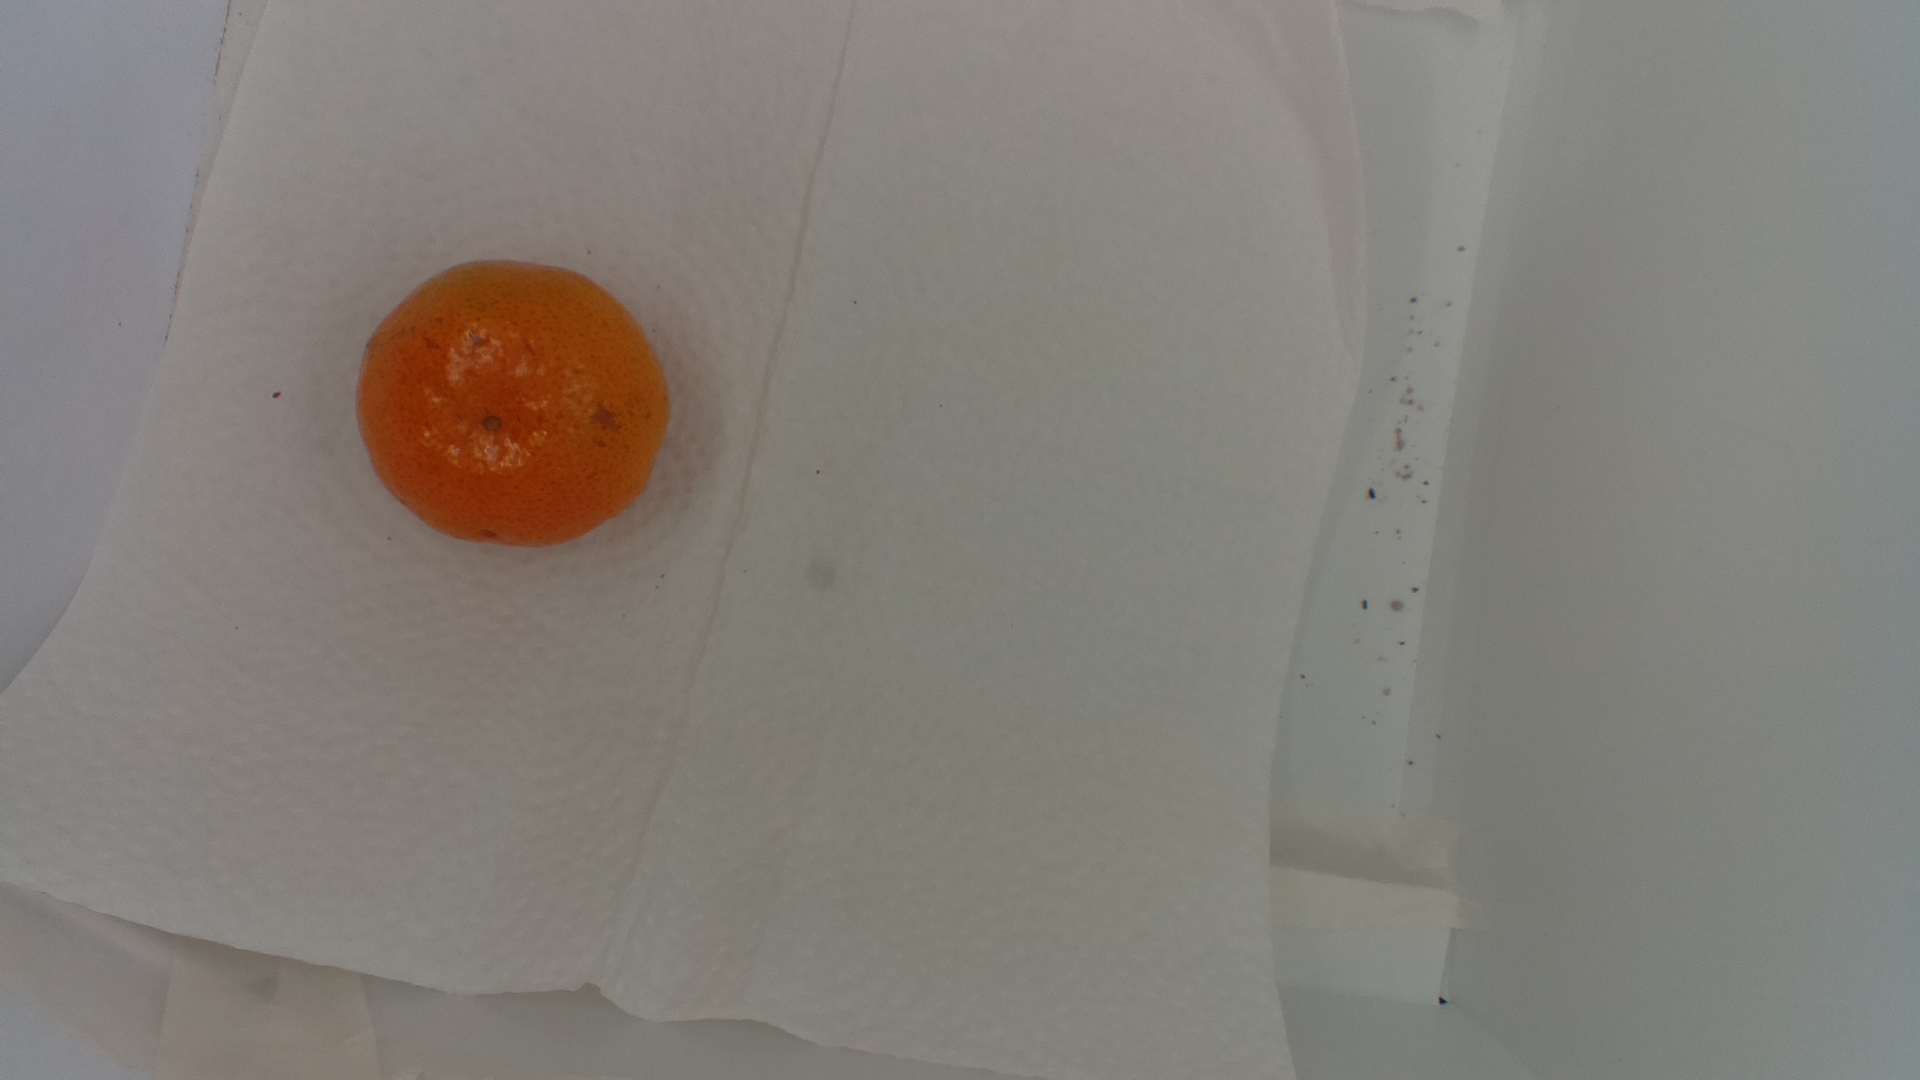fruit: (353, 252, 675, 553)
